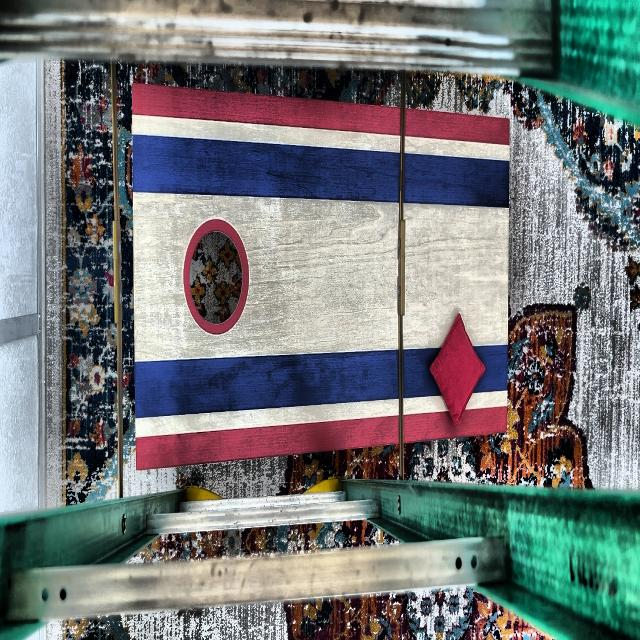board: (134, 120, 506, 432)
hole: (183, 218, 250, 336)
red-bean-bag: (429, 314, 486, 425)
